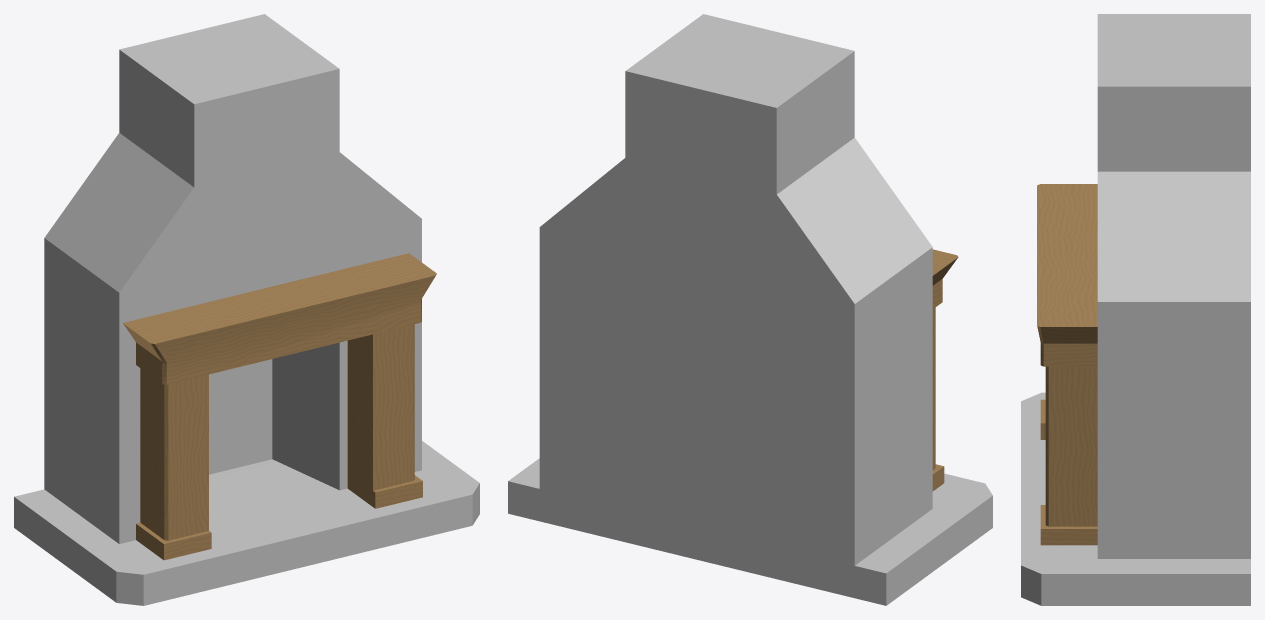
Rendered from Fireplace_01_C.FBX.
The picture shows the model from 3 angles, left to right: view 1: azimuth 30°, elevation 25°; view 2: azimuth 150°, elevation 25°; view 3: azimuth 270°, elevation 25°; orthographic projection. The views are drawn at different scales.
Visible parts, largest first — view 1: Fireplace_Box; view 2: Fireplace_Box; view 3: Fireplace_Box.
Part boxes in pixels (<box>): Fireplace_Box: <box>14,14,479,605</box>; Fireplace_Box: <box>508,14,992,605</box>; Fireplace_Box: <box>1021,14,1250,605</box>.
Size of the model in its own units: 16535 by 19685 by 8858.
